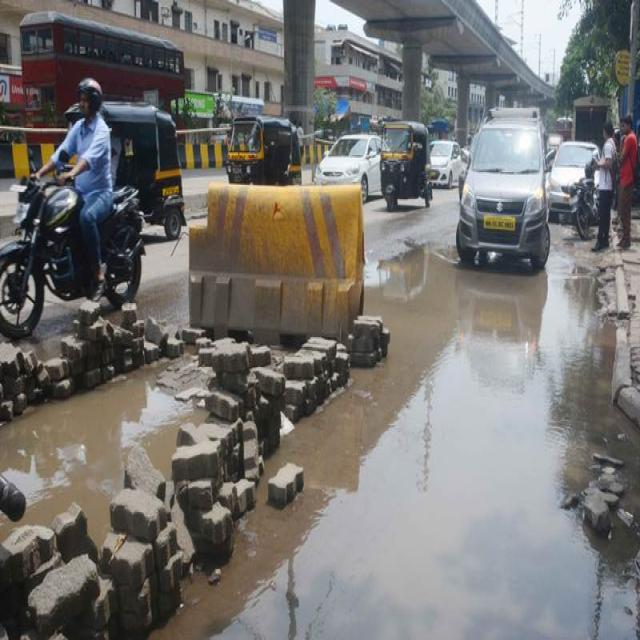Pothole: (0, 232, 639, 639)
